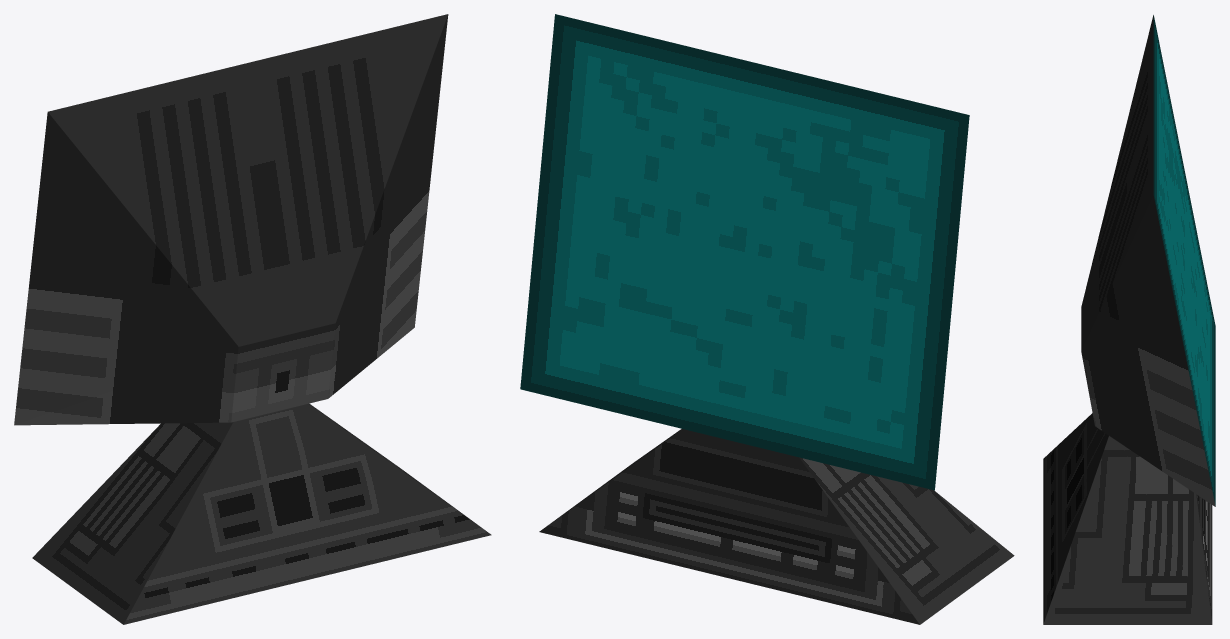
The picture shows the model from 3 angles, left to right: view 1: azimuth 30°, elevation 25°; view 2: azimuth 150°, elevation 25°; view 3: azimuth 270°, elevation 25°; orthographic projection. The views are drawn at different scales.
Parts seen in each view (by area): view 1: ss3d_07_monitor; view 2: ss3d_07_monitor; view 3: ss3d_07_monitor.
Part boxes in pixels (<box>): ss3d_07_monitor: <box>14,14,491,624</box>; ss3d_07_monitor: <box>520,14,1014,624</box>; ss3d_07_monitor: <box>1043,15,1215,624</box>.
Size of the model in its own units: 0.9688 by 1.09 by 0.3906.
Materials: 1 (1 with a texture image).
